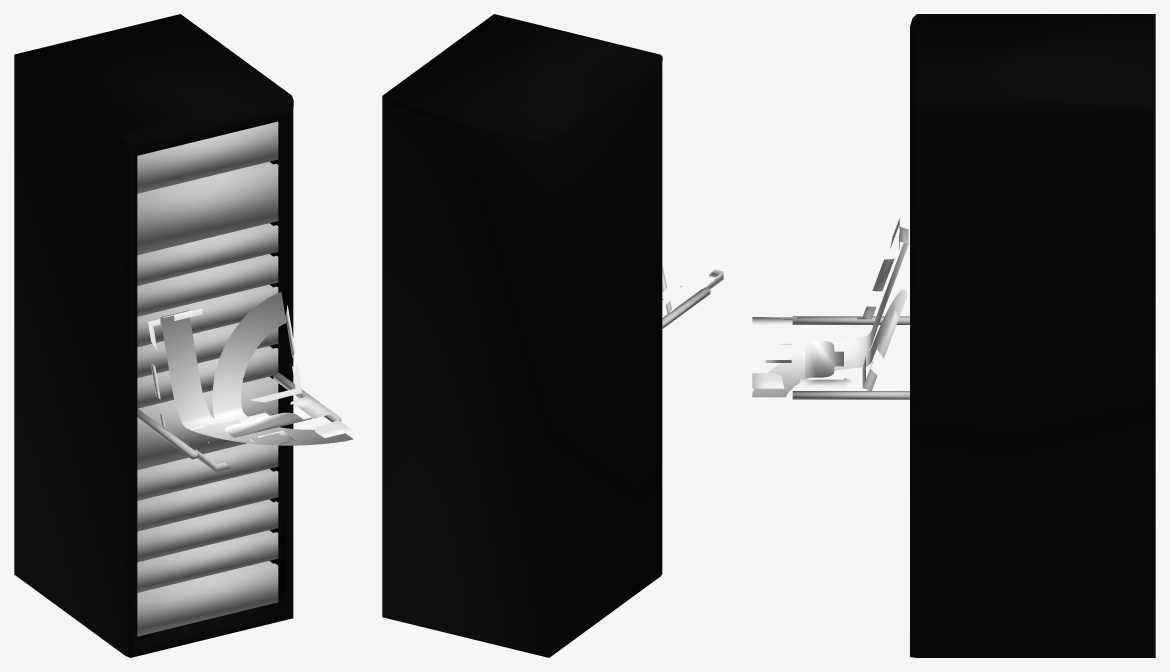
Rendered from SERVER.fbx.
3 views of the same model, side by side, from view 1: azimuth 30°, elevation 25°; view 2: azimuth 150°, elevation 25°; view 3: azimuth 270°, elevation 25° (orthographic). The views are drawn at different scales.
Parts seen in each view (by area): view 1: rack, console, ups, misc1, misc2, 1u_server9, 1u_server2, 1u_server8, 2u_nas1, 1u_server3, 1u_server1, 1u_server4 (+4 smaller); view 2: rack, console_left; view 3: rack, console, console_base_right, console_left.
Part boxes in pixels (left/top/right/bottom): rack: left=14, top=14, right=293, bottom=657; console: left=148, top=292, right=353, bottom=472; ups: left=137, top=161, right=278, bottom=255; misc1: left=137, top=561, right=278, bottom=636; misc2: left=137, top=121, right=278, bottom=193; 1u_server9: left=137, top=223, right=278, bottom=285; 1u_server2: left=137, top=499, right=278, bottom=562; 1u_server8: left=137, top=254, right=278, bottom=316; 2u_nas1: left=137, top=376, right=278, bottom=469; 1u_server3: left=137, top=469, right=278, bottom=531; 1u_server1: left=137, top=530, right=278, bottom=592; 1u_server4: left=137, top=443, right=278, bottom=500; rack: left=382, top=14, right=662, bottom=657; console_left: left=662, top=287, right=710, bottom=328; rack: left=910, top=14, right=1155, bottom=657; console: left=752, top=218, right=908, bottom=397; console_base_right: left=792, top=391, right=909, bottom=399; console_left: left=792, top=316, right=909, bottom=324.
Size of the model in its own units: 172 by 515 by 338.
